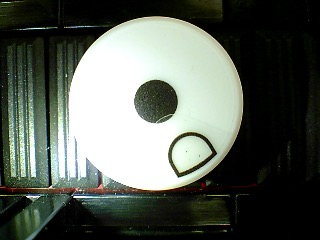BOHOMIPO1: (68, 16, 244, 191)
